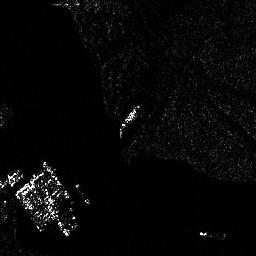ship: (119, 103, 140, 138)
